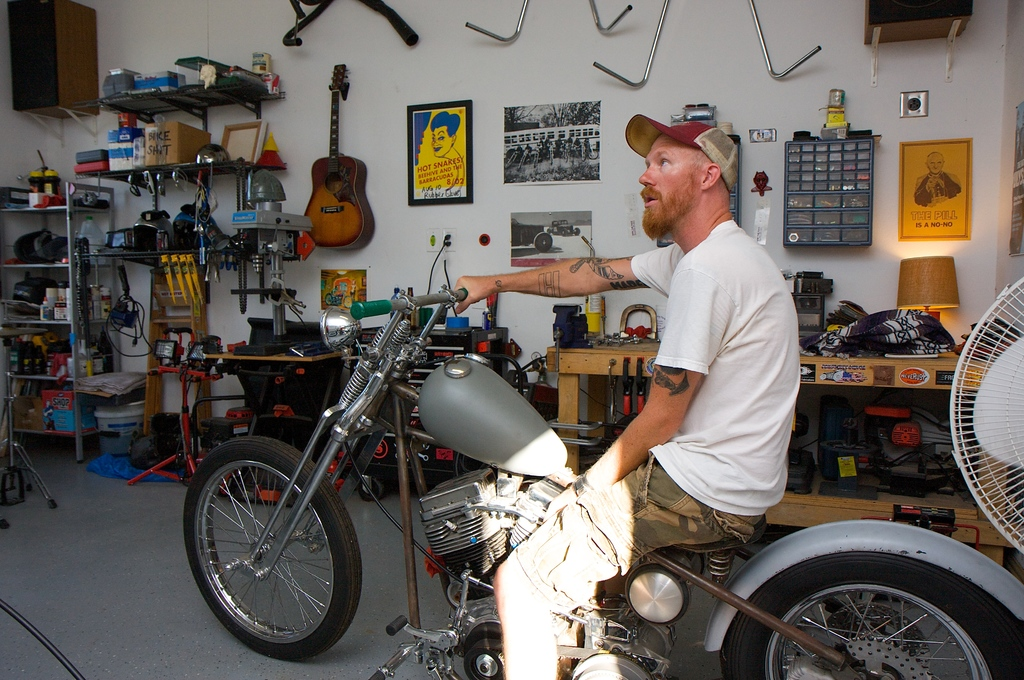Person: (453, 114, 800, 680)
